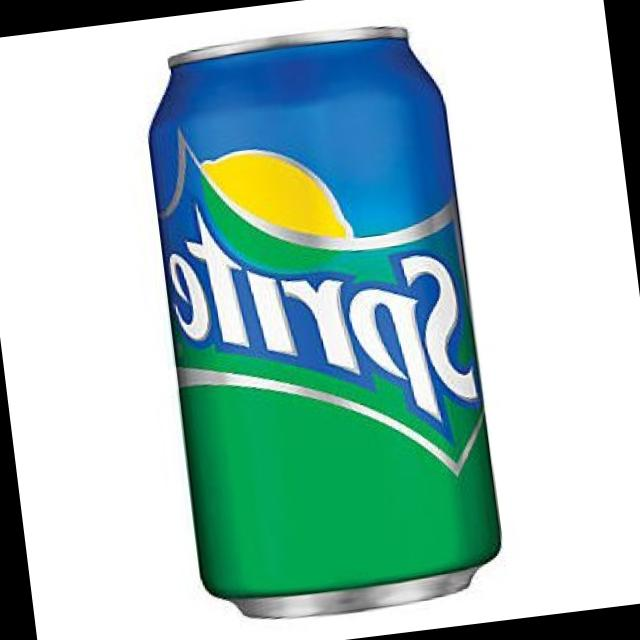sprite: (128, 14, 506, 632)
